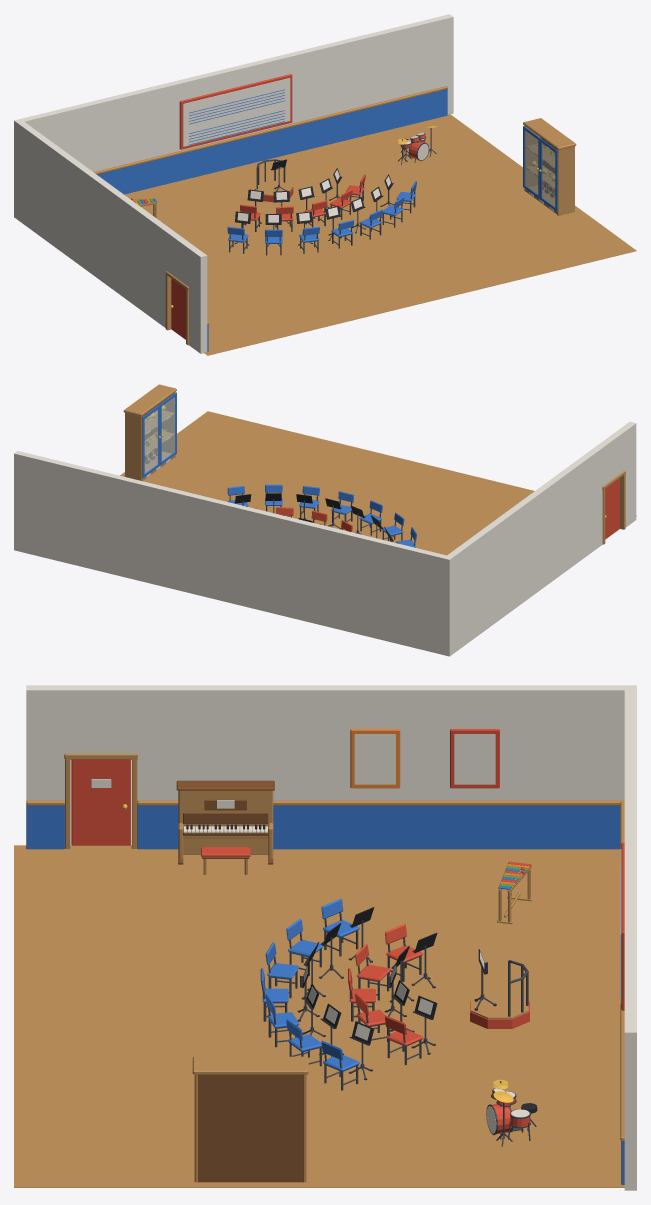
Rendered from school-music-room.glb.
The picture shows the model from 3 angles, top to bottom: view 1: azimuth 30°, elevation 25°; view 2: azimuth 150°, elevation 25°; view 3: azimuth 270°, elevation 25°; orthographic projection. The views are drawn at different scales.
Parts seen in each view (by area): view 1: MusicRoom, InstrumentCabinet, Cabinet_Door_R, Cabinet_Door_L, ConductorPodium, Door, DrumSet; view 2: MusicRoom, InstrumentCabinet, Cabinet_Door_L, Cabinet_Door_R, Door; view 3: MusicRoom, InstrumentCabinet, Piano, Door, ConductorPodium, DrumSet, Xylophone, Piano_Lid.
Boxes of the visible parts, bbox=[...] form: MusicRoom: bbox=[14, 14, 636, 355]; InstrumentCabinet: bbox=[523, 118, 576, 215]; Cabinet_Door_R: bbox=[539, 138, 557, 211]; Cabinet_Door_L: bbox=[523, 126, 540, 199]; ConductorPodium: bbox=[254, 159, 293, 202]; Door: bbox=[170, 278, 185, 339]; DrumSet: bbox=[398, 125, 437, 164]; MusicRoom: bbox=[14, 411, 636, 656]; InstrumentCabinet: bbox=[123, 384, 176, 480]; Cabinet_Door_L: bbox=[142, 404, 160, 477]; Cabinet_Door_R: bbox=[159, 392, 176, 465]; Door: bbox=[605, 478, 619, 539]; MusicRoom: bbox=[14, 685, 636, 1190]; InstrumentCabinet: bbox=[192, 1056, 308, 1182]; Piano: bbox=[176, 780, 274, 864]; Door: bbox=[71, 759, 130, 845]; ConductorPodium: bbox=[470, 949, 529, 1028]; DrumSet: bbox=[486, 1079, 536, 1146]; Xylophone: bbox=[497, 861, 531, 924]; Piano_Lid: bbox=[183, 813, 268, 823].
Bounding box in the file's own units: 66.2 × 14 × 50.
